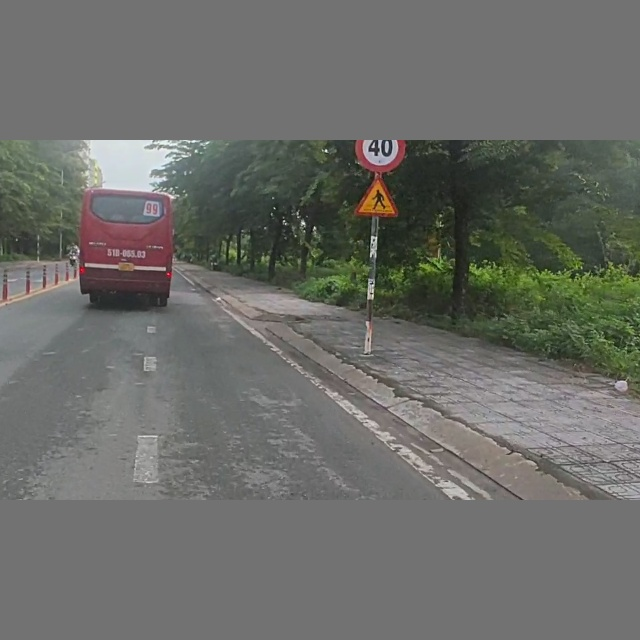P.127*40: (357, 141, 409, 174)
W.224: (356, 174, 402, 218)
